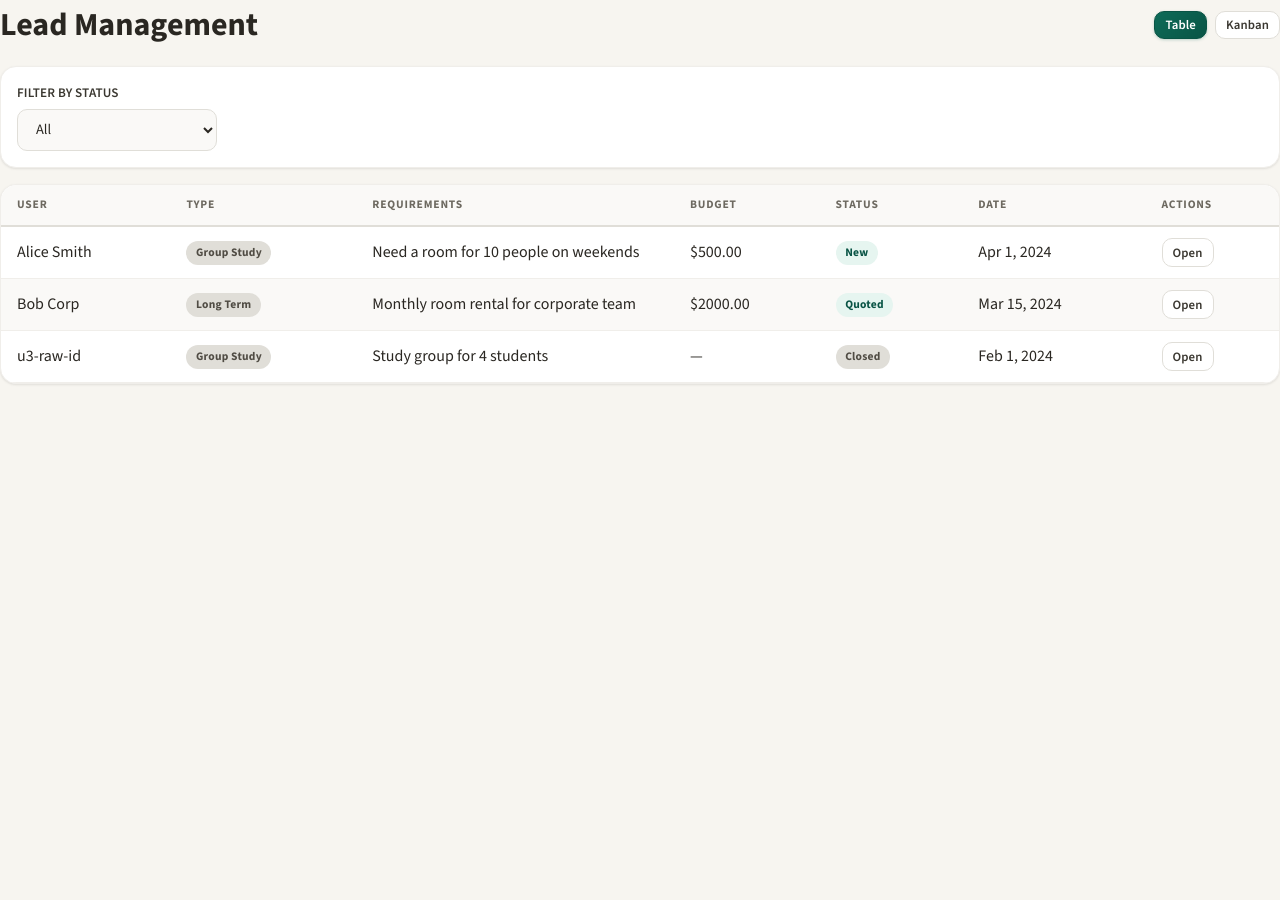
LeadManagementPage › Detail modal › opens detail modal when Open is clicked
Check: the text "Alice Smith" is shown, box x1=1 y1=226 x2=170 y2=278
Click the button "Open" in the row of "Alice Smith".
click(1188, 252)  # box x1=1162 y1=238 x2=1214 y2=267
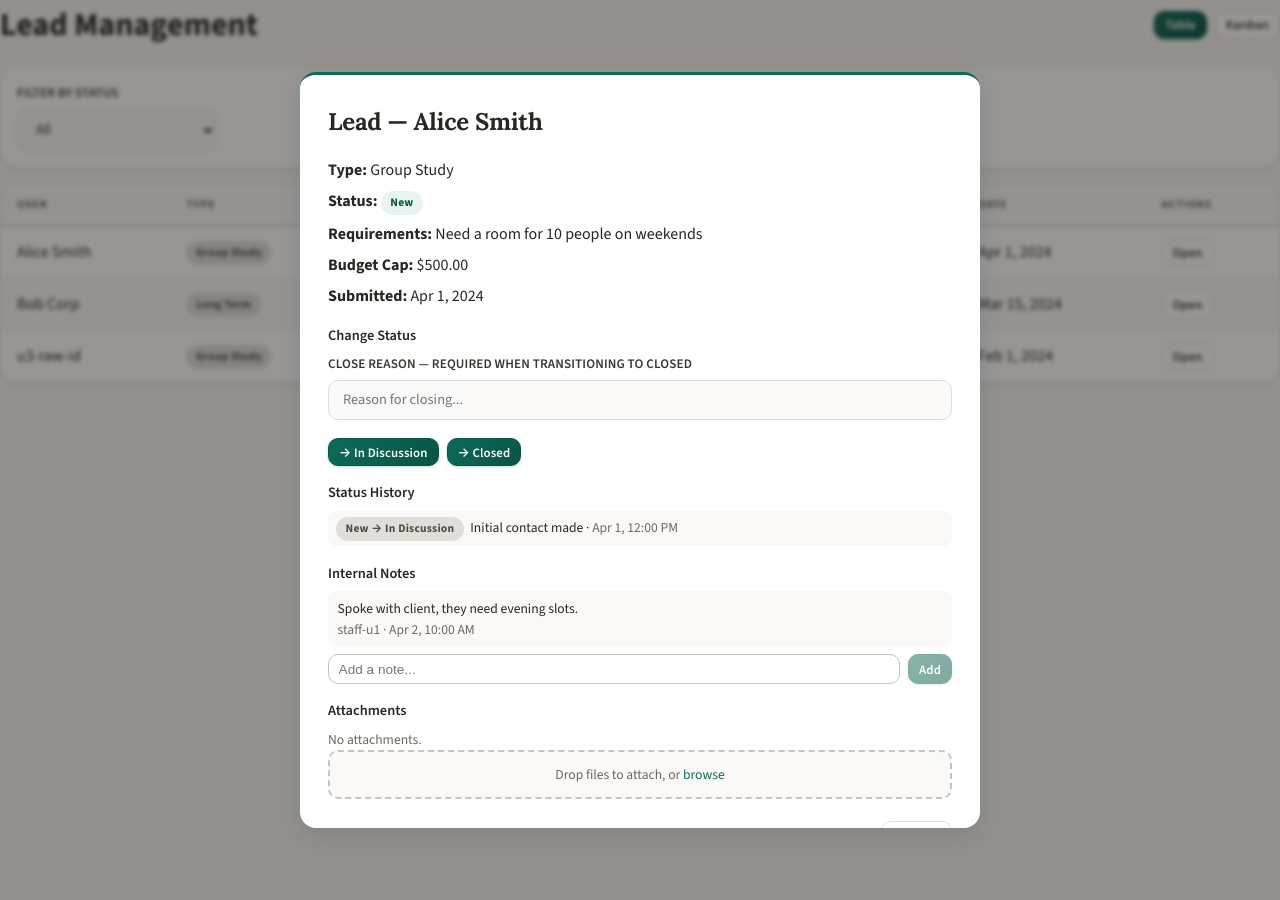
Check: the heading "Lead — Alice Smith" is shown, box x1=328 y1=106 x2=543 y2=137
